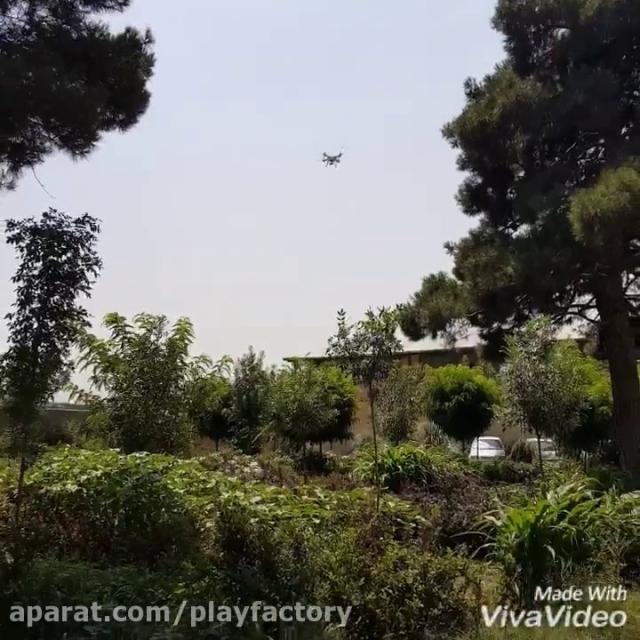drone: (316, 141, 348, 171)
